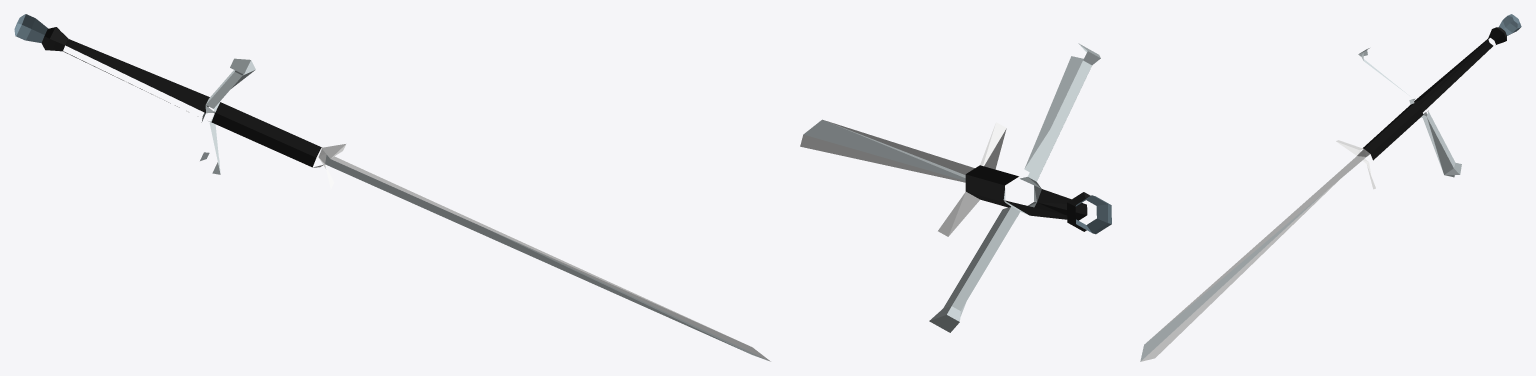
Rendered from scene_ZFvuKeMB9A.glb.
3 renders of one model, left to right at view 1: azimuth 30°, elevation 25°; view 2: azimuth 150°, elevation 25°; view 3: azimuth 270°, elevation 25°, orthographic. The views are drawn at different scales.
Visible parts, largest first — view 1: Node; view 2: Node; view 3: Node.
Part boxes in pixels (<box>): Node: <box>14,14,770,361</box>; Node: <box>800,43,1111,332</box>; Node: <box>1140,14,1521,361</box>.
Size of the model in its own units: 1.23 by 0.6544 by 1.2.
